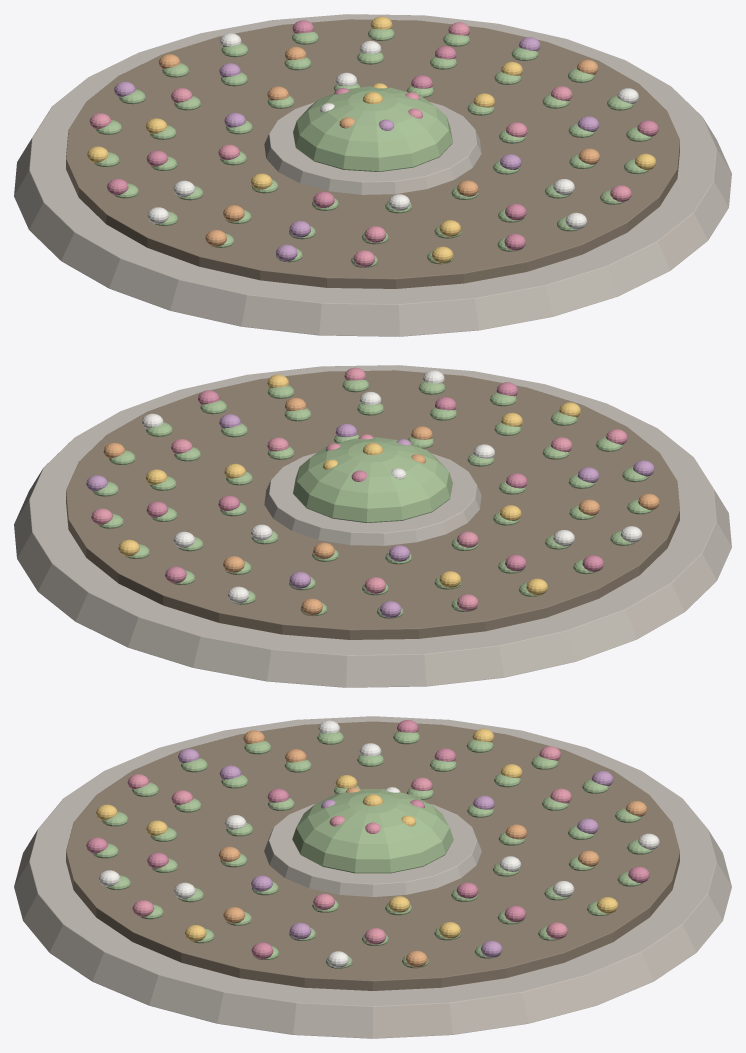
File: roundabout.glb
The picture shows the model from 3 angles, top to bottom: view 1: azimuth 30°, elevation 25°; view 2: azimuth 150°, elevation 25°; view 3: azimuth 270°, elevation 25°; orthographic projection.
Visible parts, largest first — view 1: Soil, Base, Mound, InnerRing; view 2: Soil, Base, Mound, InnerRing; view 3: Soil, Base, Mound, InnerRing.
Part boxes in pixels (left/top/right/bottom): Soil: left=66, top=19, right=679, bottom=288; Base: left=14, top=14, right=731, bottom=336; Mound: left=293, top=86, right=452, bottom=171; InnerRing: left=264, top=102, right=481, bottom=194; Soil: left=66, top=370, right=679, bottom=639; Base: left=14, top=365, right=731, bottom=687; Mound: left=293, top=437, right=452, bottom=522; InnerRing: left=264, top=453, right=481, bottom=545; Soil: left=66, top=721, right=679, bottom=990; Base: left=14, top=716, right=731, bottom=1038; Mound: left=292, top=789, right=453, bottom=873; InnerRing: left=264, top=804, right=481, bottom=896.
Bounding box in the file's own units: 13.79 × 1.94 × 13.79.
